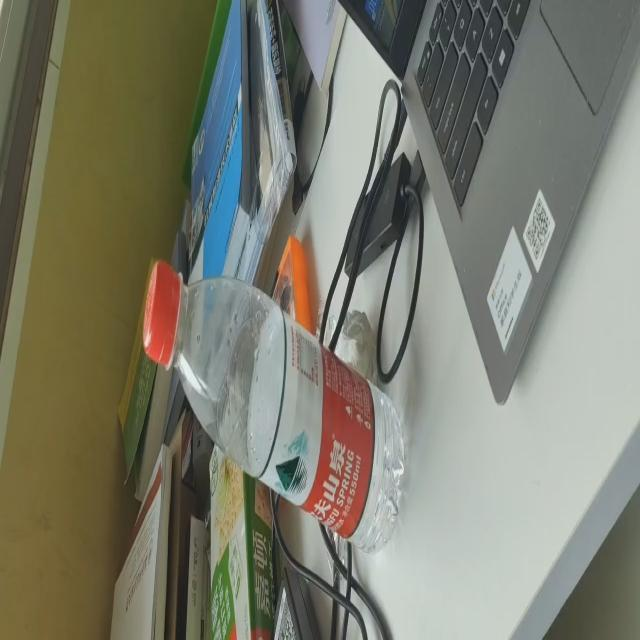bottle: (143, 257, 407, 548)
cap: (137, 262, 185, 368)
label: (267, 279, 375, 539)
